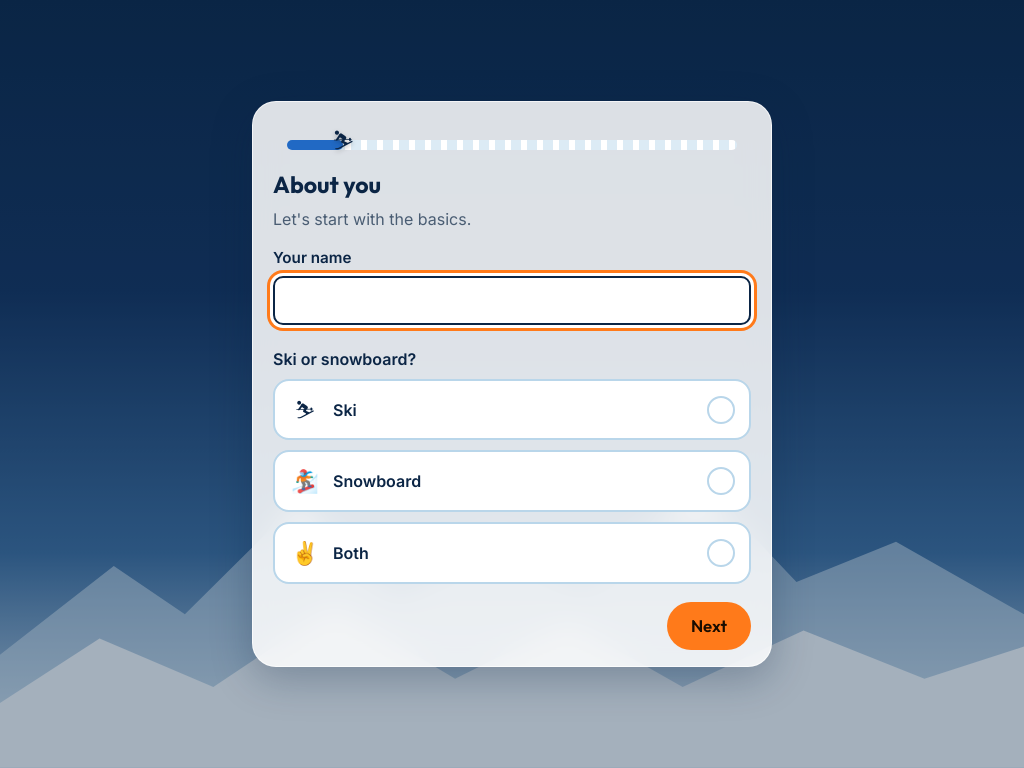
Test: onboarding: step 2 (ability + clarifier) › describes behaviors instead of labels and is required
Step 1. Type "Alex" into the field labelled "Your name" → [512, 300], box 273,276 -> 751,325
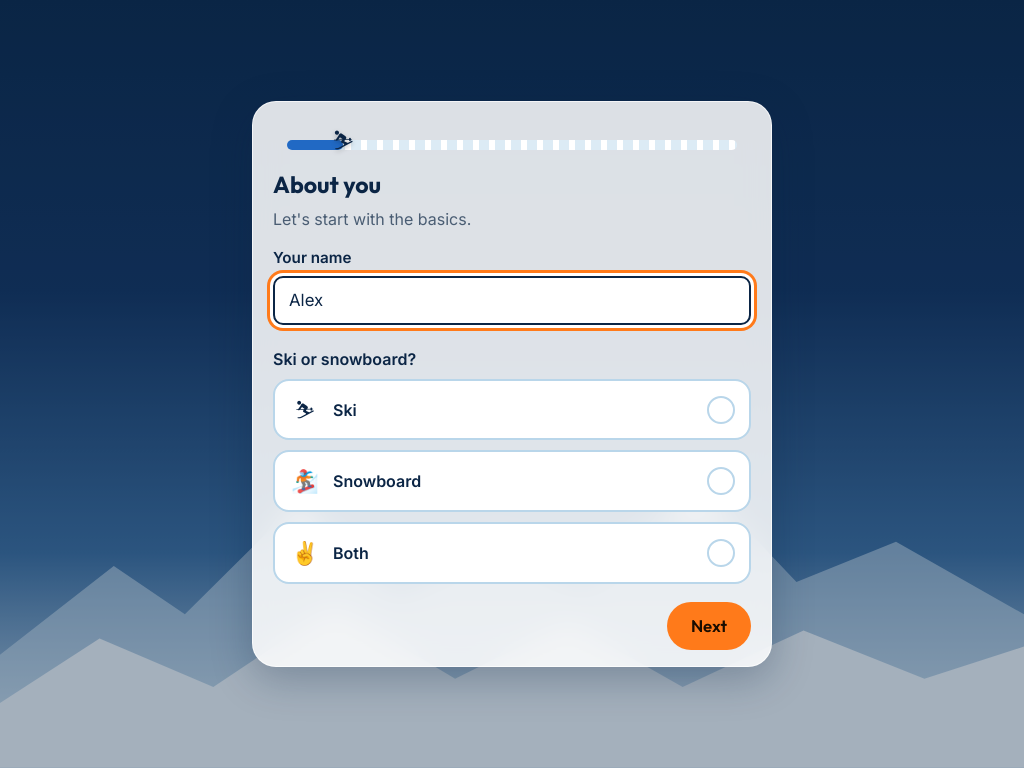
Step 2. Click the radio button labelled "⛷ Ski" → [512, 410], box 273,379 -> 751,440
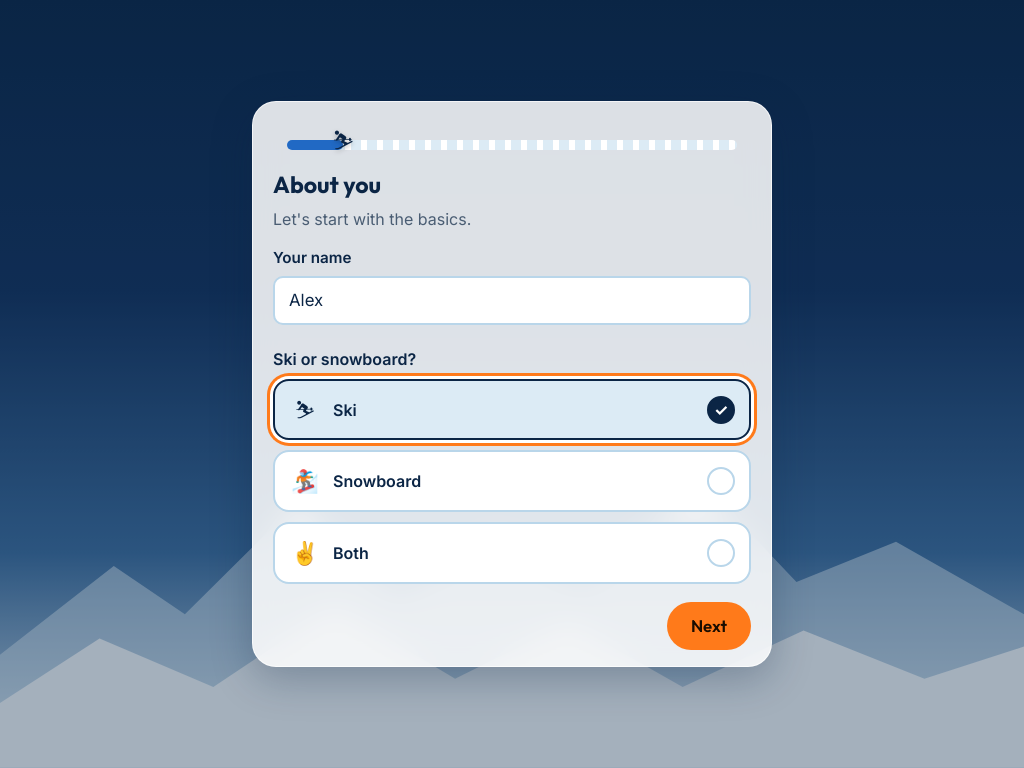
Step 3. Click the button "Next" → [709, 626], box 667,602 -> 751,650
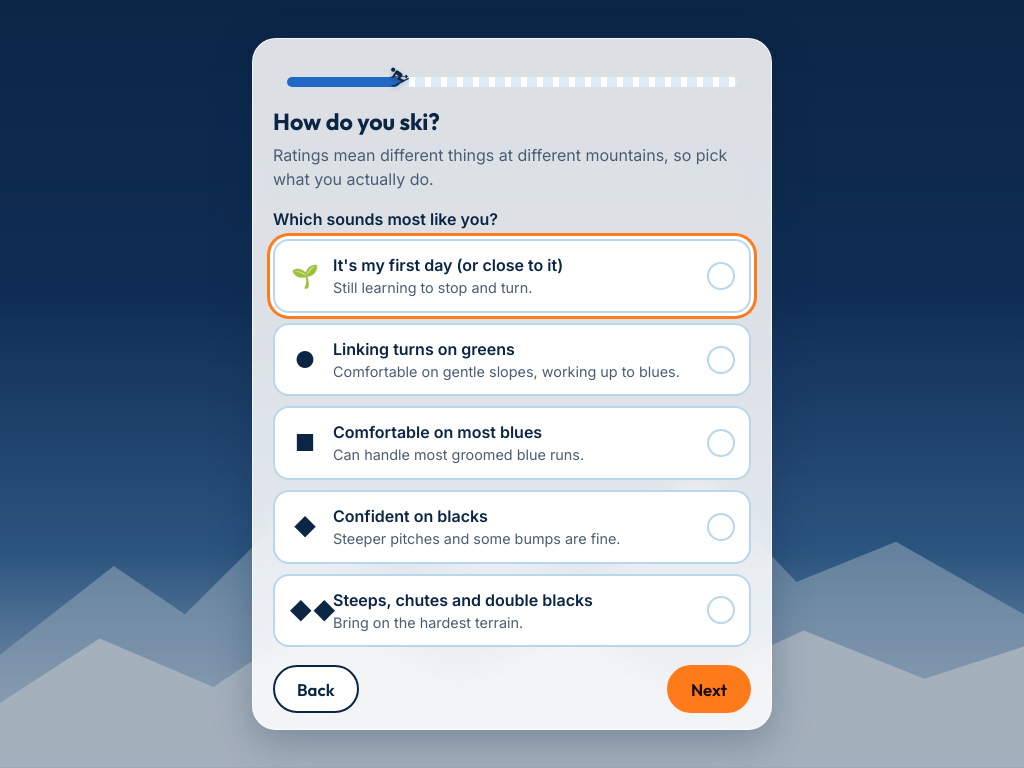
Step 4. Click the button "Next" → [709, 689], box 667,665 -> 751,713
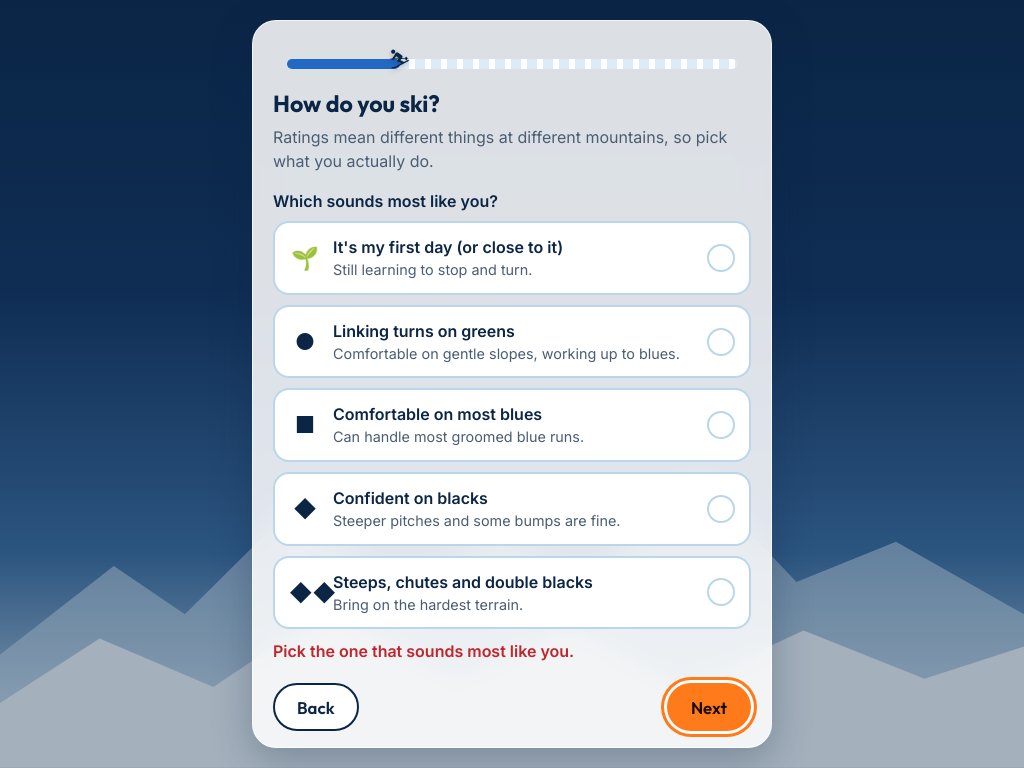
Check: the text "Pick the one that sounds most like you." is shown, box 273,641 -> 574,661
